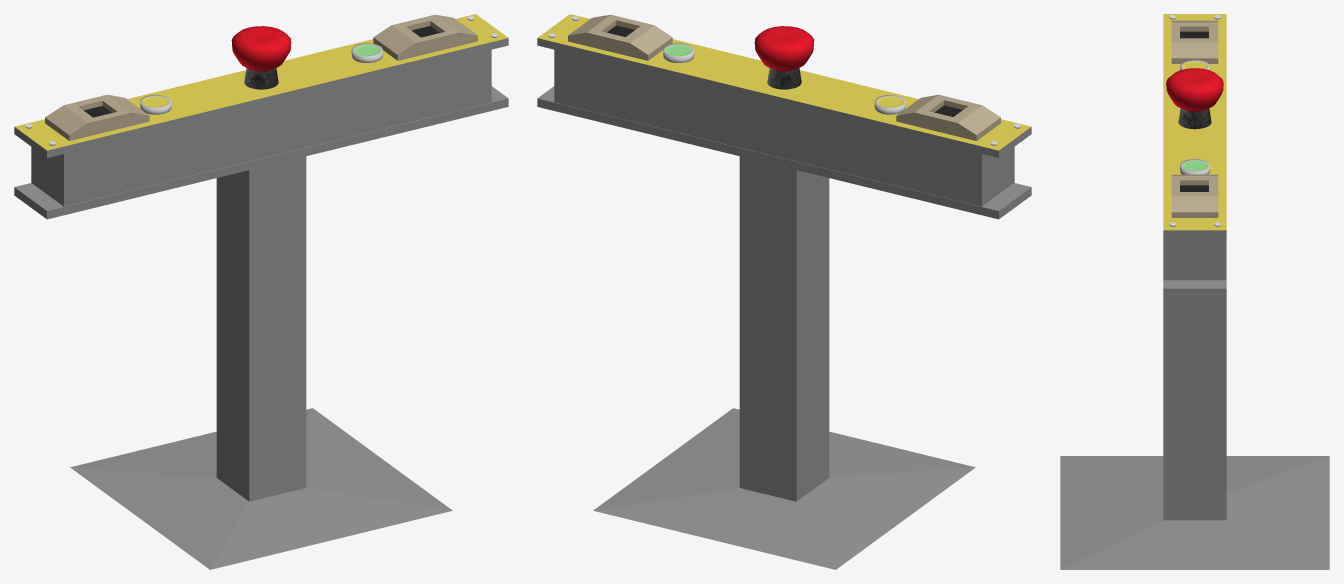
The model's file is buttondisplay.fbx.
3 views of the same model, side by side, from view 1: azimuth 30°, elevation 25°; view 2: azimuth 150°, elevation 25°; view 3: azimuth 270°, elevation 25° (orthographic). The views are drawn at different scales.
Visible parts, largest first — view 1: Cube.011, Cube.014, Sphere, Cylinder.007; view 2: Cube.011, Cube.014, Sphere, Cylinder.007; view 3: Cube.011, Cube.014, Sphere, Cylinder.007.
Part boxes in pixels (box(x1,y1,x2,y2)): Cube.011: box(14, 14, 508, 569); Cube.014: box(45, 14, 477, 140); Sphere: box(231, 26, 291, 89); Cylinder.007: box(140, 43, 382, 114); Cube.011: box(537, 14, 1031, 569); Cube.014: box(568, 14, 1000, 140); Sphere: box(754, 26, 814, 89); Cylinder.007: box(663, 43, 905, 114); Cube.011: box(1060, 14, 1329, 569); Cube.014: box(1171, 20, 1218, 217); Sphere: box(1166, 68, 1223, 129); Cylinder.007: box(1180, 60, 1209, 174).
Bounding box in the file's own units: 122 × 116 × 64.05.
